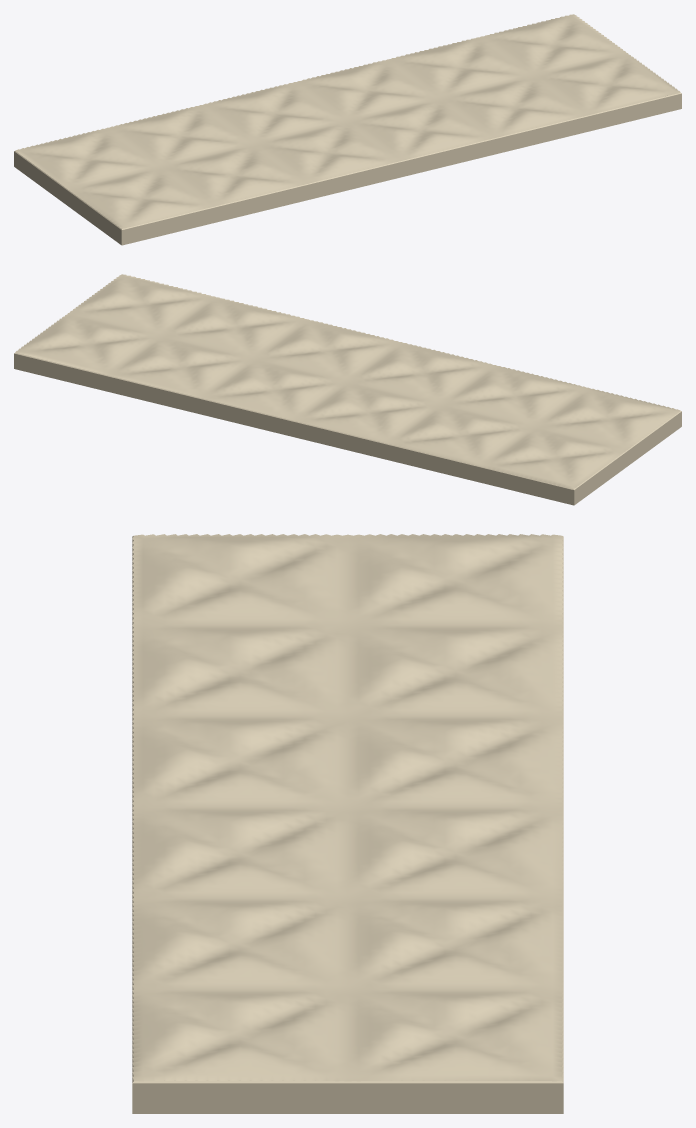
File: mahsulot.glb
The picture shows the model from 3 angles, top to bottom: view 1: azimuth 30°, elevation 25°; view 2: azimuth 150°, elevation 25°; view 3: azimuth 270°, elevation 25°; orthographic projection. The views are drawn at different scales.
Parts seen in each view (by area): view 1: mahsulot; view 2: mahsulot; view 3: mahsulot.
Part boxes in pixels (<box>): mahsulot: <box>14,14,681,245</box>; mahsulot: <box>14,274,681,505</box>; mahsulot: <box>132,534,563,1113</box>.
Bounding box in the file's own units: 1.2 × 0.0431 × 0.4.
